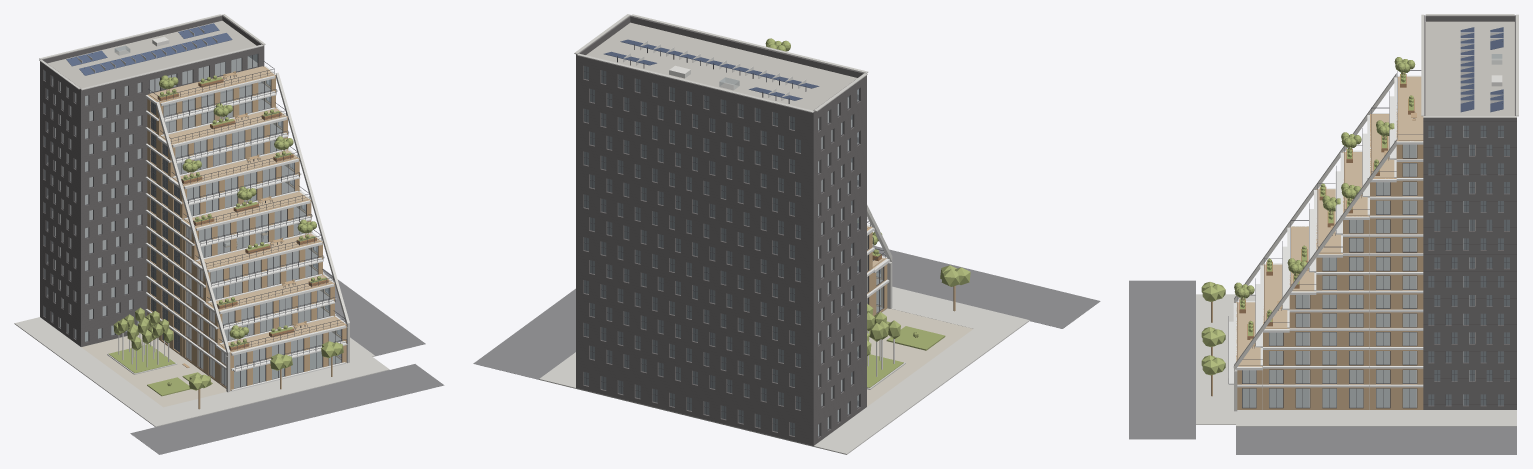
Rendered from clay-terraced-stepped-tower-clay-v001.glb.
The picture shows the model from 3 angles, left to right: view 1: azimuth 30°, elevation 25°; view 2: azimuth 150°, elevation 25°; view 3: azimuth 270°, elevation 25°; orthographic projection. The views are drawn at different scales.
Parts seen in each view (by area): view 1: CLAY_WALL, CLAY_GLASS, CLAY_FLOOR, CLAY_TIMBER, CLAY_CONCRETE, CLAY_ASPHALT, CLAY_WHITE, CLAY_TRIM, CLAY_DECK, CLAY_PLANTING, CLAY_HARDWARE, CLAY_GRAVEL (+5 smaller); view 2: CLAY_WALL, CLAY_GLASS, CLAY_TRIM, CLAY_CONCRETE, CLAY_ASPHALT, CLAY_GRAVEL, CLAY_PLANTING, CLAY_SAND, CLAY_SOLAR, CLAY_FLOOR, CLAY_TIMBER, CLAY_PALE; view 3: CLAY_WALL, CLAY_ASPHALT, CLAY_GLASS, CLAY_TIMBER, CLAY_CONCRETE, CLAY_FLOOR, CLAY_TRIM, CLAY_WHITE, CLAY_GRAVEL, CLAY_DECK, CLAY_PLANTING, CLAY_FOUNDATION (+5 smaller).
Boxes of the visible parts, x1,y1,x2,y2 form: CLAY_WALL: (40, 15, 264, 346); CLAY_GLASS: (44, 45, 341, 388); CLAY_FLOOR: (47, 56, 341, 366); CLAY_TIMBER: (147, 66, 346, 409); CLAY_CONCRETE: (14, 14, 389, 426); CLAY_ASPHALT: (130, 264, 444, 454); CLAY_WHITE: (145, 66, 347, 391); CLAY_TRIM: (43, 53, 341, 388); CLAY_DECK: (149, 66, 343, 351); CLAY_PLANTING: (108, 75, 343, 396); CLAY_HARDWARE: (71, 26, 347, 370); CLAY_GRAVEL: (47, 20, 256, 88); CLAY_WALL: (576, 15, 866, 445); CLAY_GLASS: (584, 66, 883, 436); CLAY_TRIM: (584, 66, 883, 437); CLAY_CONCRETE: (539, 14, 1029, 454); CLAY_ASPHALT: (473, 245, 1100, 379); CLAY_GRAVEL: (586, 22, 857, 110); CLAY_PLANTING: (765, 38, 970, 387); CLAY_SAND: (867, 308, 972, 406); CLAY_SOLAR: (604, 39, 819, 100); CLAY_FLOOR: (818, 97, 881, 405); CLAY_TIMBER: (867, 226, 955, 337); CLAY_PALE: (623, 40, 806, 100); CLAY_WALL: (1423, 15, 1516, 409); CLAY_ASPHALT: (1129, 280, 1516, 454); CLAY_GLASS: (1242, 54, 1509, 407); CLAY_TIMBER: (1211, 72, 1423, 409); CLAY_CONCRETE: (1196, 14, 1518, 426); CLAY_FLOOR: (1242, 22, 1514, 386); CLAY_TRIM: (1242, 125, 1509, 408); CLAY_WHITE: (1228, 75, 1423, 387); CLAY_GRAVEL: (1425, 21, 1514, 115); CLAY_DECK: (1238, 76, 1423, 365); CLAY_PLANTING: (1201, 57, 1415, 375); CLAY_FOUNDATION: (1242, 387, 1463, 409).
Size of the model in its own units: 61.6 by 48.56 by 58.29.
